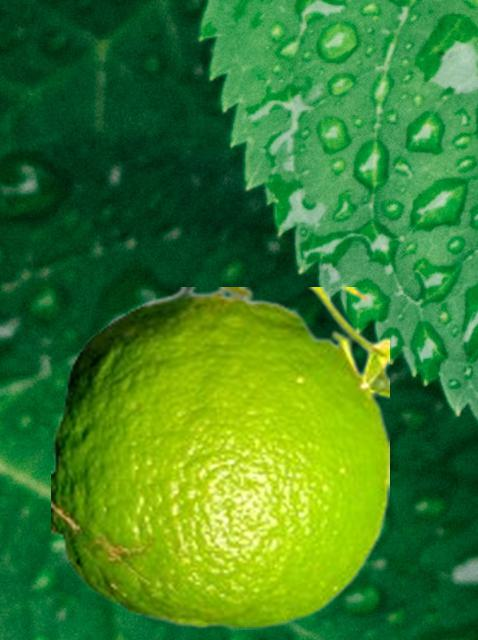dalandan: (51, 287, 388, 628)
